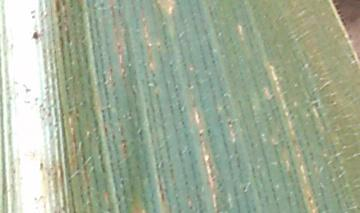tarspot: (31, 26, 41, 41)
